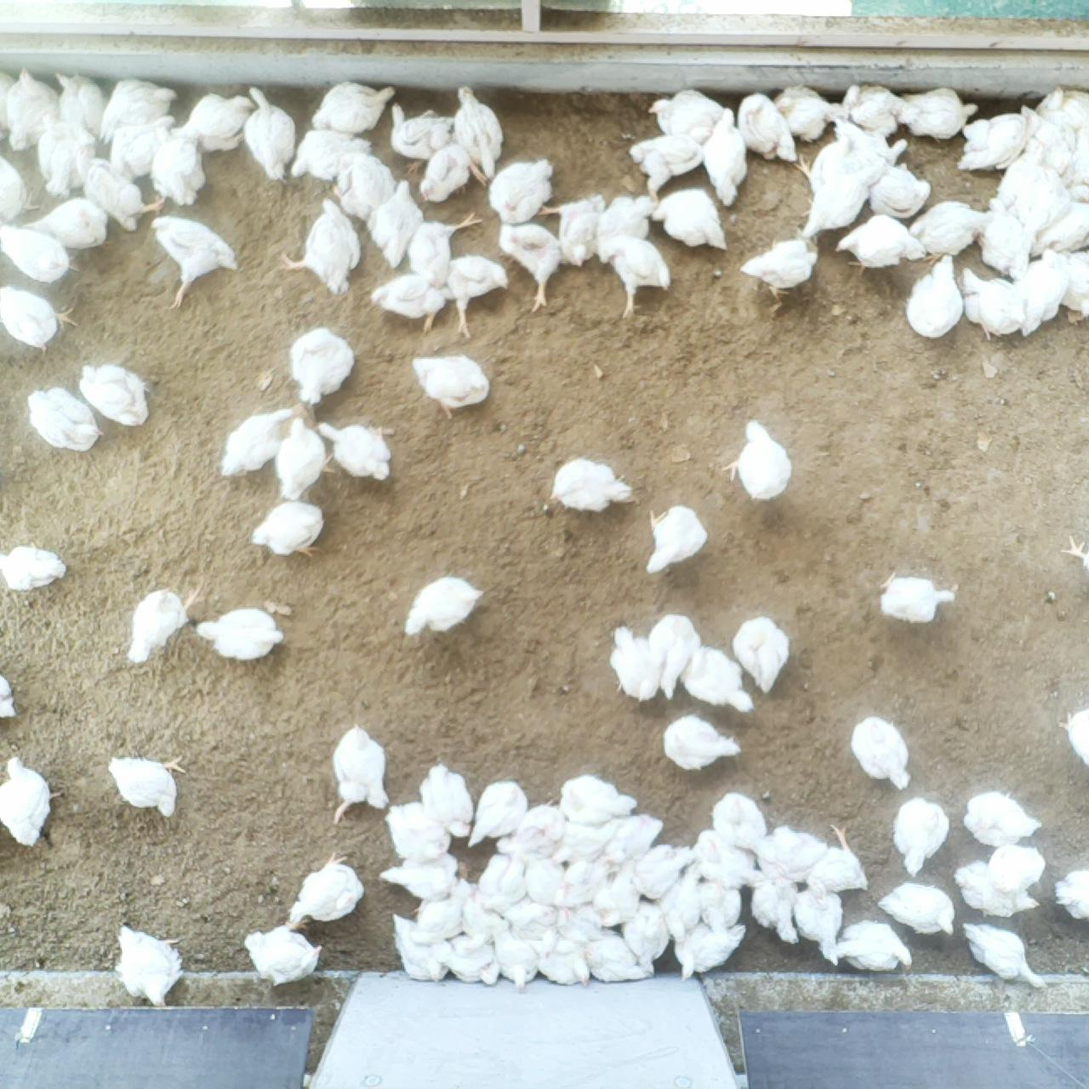chicken: (991, 135, 1072, 242), (149, 213, 237, 311), (276, 198, 362, 298), (77, 151, 170, 233), (801, 156, 889, 242), (124, 581, 207, 665), (628, 125, 710, 208), (591, 231, 670, 316), (324, 720, 389, 822), (0, 743, 61, 850), (113, 920, 183, 1012), (905, 198, 998, 267), (496, 217, 565, 309), (648, 88, 730, 165), (220, 404, 302, 480), (239, 83, 300, 181), (282, 852, 364, 924), (274, 413, 337, 505), (964, 921, 1048, 990), (958, 107, 1039, 178), (724, 419, 793, 502), (408, 214, 483, 290), (835, 211, 928, 272), (955, 854, 1042, 919), (441, 256, 509, 339), (680, 641, 754, 717), (24, 384, 105, 453), (104, 751, 187, 818), (903, 252, 966, 340), (288, 324, 358, 403), (96, 75, 176, 144), (897, 81, 978, 149), (409, 350, 492, 416), (388, 104, 463, 176), (955, 265, 1027, 339), (541, 193, 611, 269), (790, 132, 868, 200), (403, 573, 483, 639), (32, 112, 94, 196), (669, 918, 750, 982), (849, 709, 912, 791), (0, 217, 79, 282), (309, 79, 396, 138), (651, 186, 725, 255), (647, 613, 705, 701), (0, 281, 76, 348), (890, 794, 952, 876), (242, 922, 322, 985), (174, 89, 252, 153), (703, 105, 751, 209), (414, 762, 478, 840), (742, 238, 817, 304), (318, 417, 393, 483), (248, 499, 329, 560), (452, 87, 505, 180), (190, 605, 283, 658), (550, 456, 638, 512), (810, 824, 869, 907), (383, 908, 451, 980), (963, 791, 1044, 851), (287, 127, 372, 184), (833, 112, 905, 179), (1014, 104, 1075, 183), (594, 189, 658, 264), (488, 155, 556, 225), (737, 90, 799, 166), (468, 776, 530, 852), (974, 193, 1032, 274), (733, 613, 791, 694), (710, 791, 778, 860), (105, 111, 177, 176), (1018, 248, 1070, 338), (418, 140, 491, 203), (842, 80, 915, 143), (662, 714, 738, 774), (76, 363, 149, 425), (744, 861, 797, 946), (618, 894, 674, 974), (773, 84, 845, 146), (30, 196, 111, 251), (148, 133, 207, 208), (879, 571, 958, 627), (831, 918, 910, 974), (790, 881, 842, 966), (382, 800, 453, 862), (647, 501, 707, 574), (369, 274, 447, 330), (330, 151, 396, 217), (690, 824, 755, 891), (379, 849, 461, 902), (4, 65, 55, 149), (366, 180, 417, 264), (611, 621, 662, 704), (53, 71, 109, 146), (651, 860, 703, 940), (1023, 87, 1084, 155), (624, 838, 693, 898), (869, 159, 934, 221), (498, 801, 567, 859), (562, 772, 636, 826), (755, 824, 825, 880), (412, 879, 469, 946), (584, 929, 652, 985), (886, 882, 956, 935), (686, 865, 743, 928), (599, 812, 665, 866), (988, 840, 1048, 899), (531, 930, 592, 988), (438, 932, 502, 987), (0, 541, 68, 592), (590, 864, 640, 931), (488, 930, 542, 990), (1037, 193, 1089, 253), (0, 148, 39, 226), (543, 812, 605, 861), (1053, 244, 1089, 326), (475, 852, 528, 905), (518, 854, 572, 905), (544, 901, 605, 944), (557, 856, 612, 902), (1053, 703, 1089, 773), (495, 895, 558, 935), (455, 884, 502, 936), (1054, 124, 1089, 186), (1055, 867, 1089, 927), (1054, 84, 1089, 136), (1059, 530, 1089, 583), (0, 66, 19, 145), (0, 667, 21, 723)
